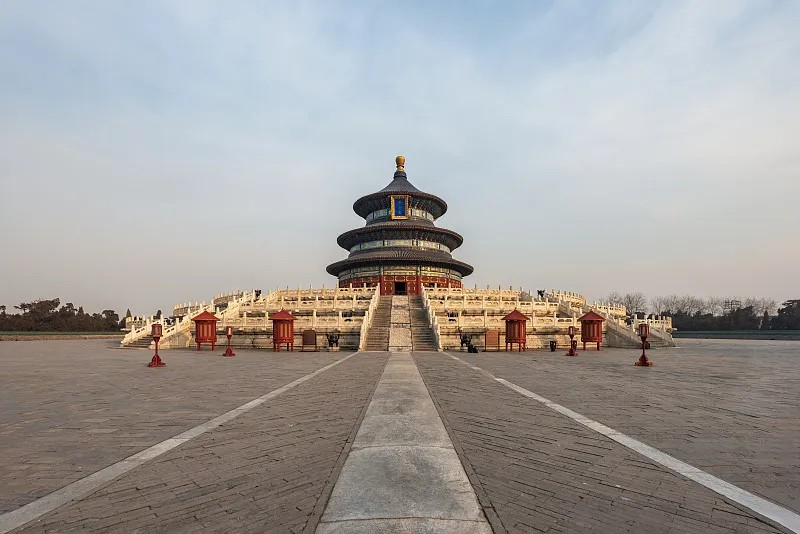Heaven: (324, 156, 476, 295)
